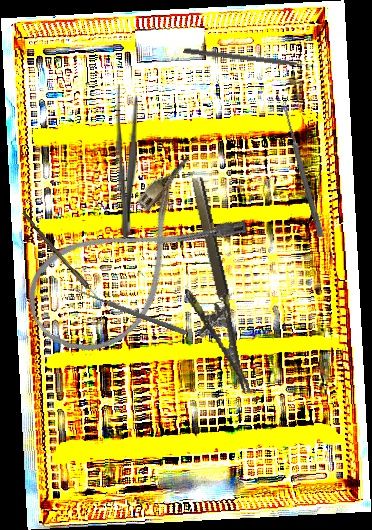Cannula: (9, 149, 255, 375)
Dressing Forceps: (114, 84, 138, 239)
Needle Holder: (162, 175, 251, 403)
Pusher: (183, 47, 321, 72)
Surgical Spoon: (19, 211, 114, 315), (279, 101, 326, 238), (72, 286, 188, 336)
